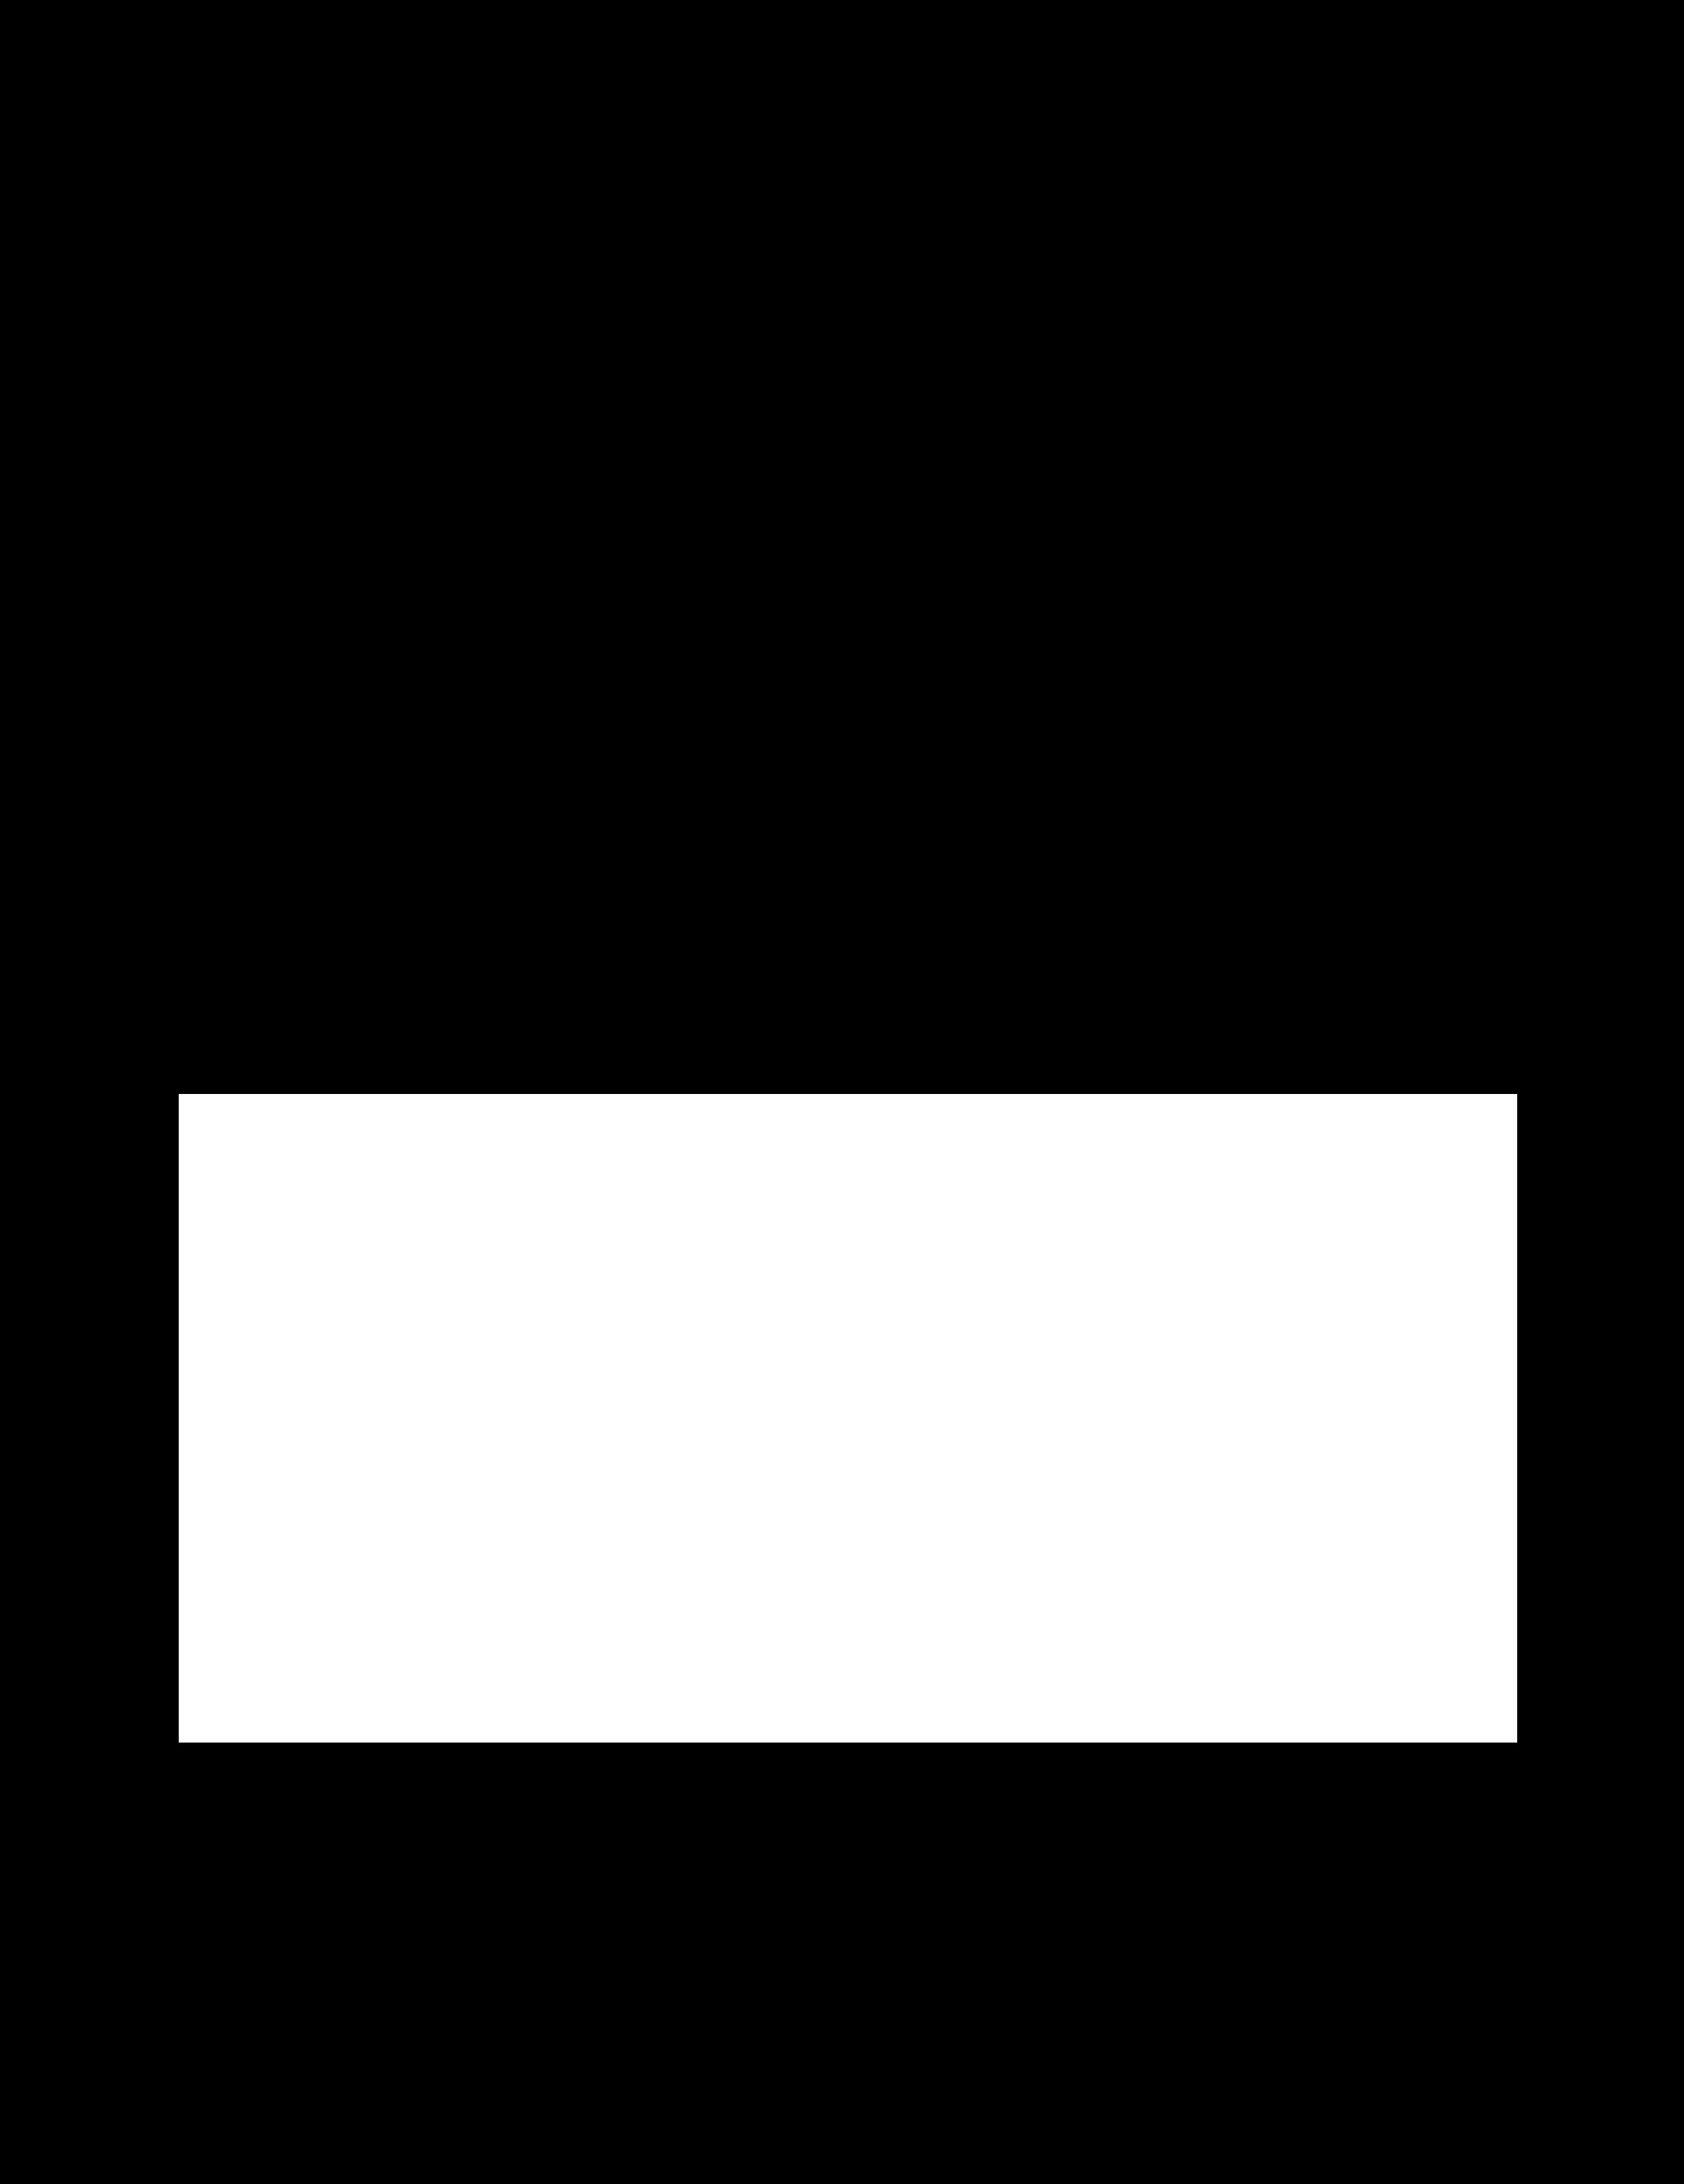table: (179, 1095, 1516, 1742)
